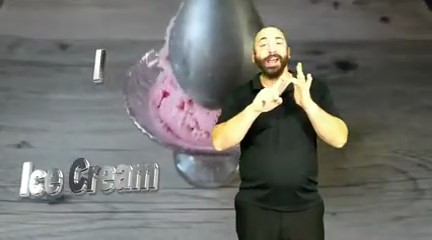I: (248, 60, 314, 114)
